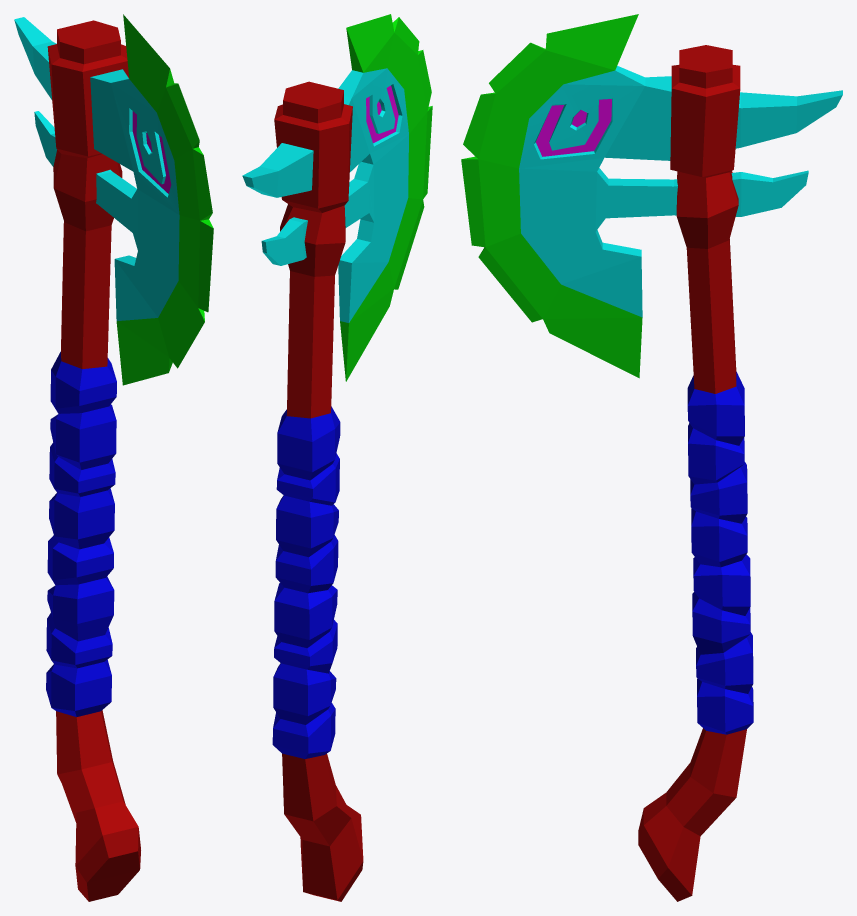
Rendered from Axe_Rare_Runic.fbx.
3 views of the same model, side by side, from view 1: azimuth 30°, elevation 25°; view 2: azimuth 150°, elevation 25°; view 3: azimuth 270°, elevation 25° (orthographic). The views are drawn at different scales.
Visible parts, largest first — view 1: SM_Wep_Axe_Rune_01; view 2: SM_Wep_Axe_Rune_01; view 3: SM_Wep_Axe_Rune_01.
Part boxes in pixels (bbox=[...]): SM_Wep_Axe_Rune_01: bbox=[14, 14, 213, 901]; SM_Wep_Axe_Rune_01: bbox=[242, 14, 432, 901]; SM_Wep_Axe_Rune_01: bbox=[461, 14, 842, 901].
Size of the model in its own units: 0.0702 by 0.8056 by 0.3164.
